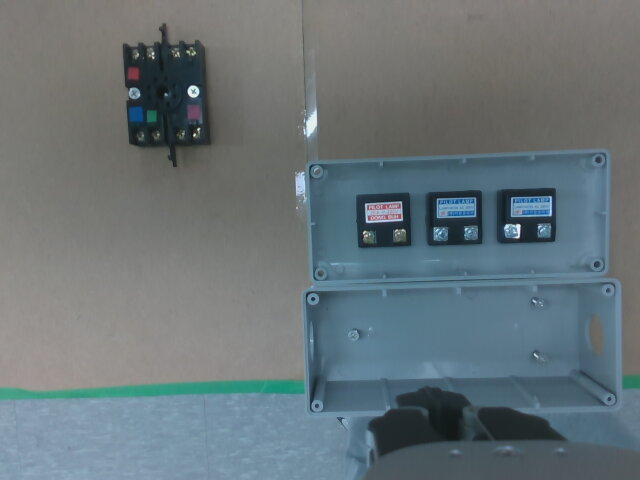L1(1): (362, 230, 376, 243)
L1(2): (393, 229, 406, 241)
L2(1): (434, 227, 449, 241)
L2(2): (464, 227, 479, 240)
L3(1): (505, 223, 520, 238)
L3(2): (537, 223, 552, 237)
